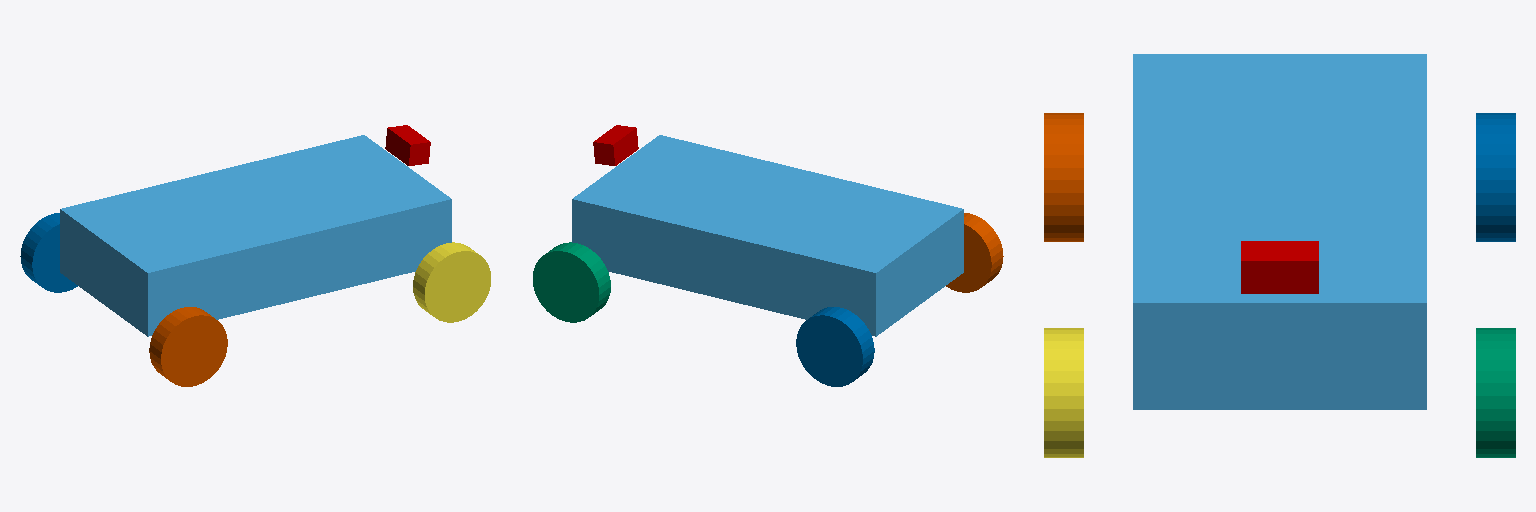
The robot description file, URDF, robot "automodelcar":
<?xml version="1.0"?>
<robot name="automodelcar">

  <!-- ============================================== -->
  <!-- MATERIALES VISUALES (Para Rviz o vista normal) -->
  <!-- ============================================== -->
  <material name="yellow"><color rgba="0.0 0.3 0.8 1.0"/></material>
  <material name="gray"><color rgba="0.1 0.1 0.1 1.0"/></material>
  <material name="red"><color rgba="0.8 0.0 0.0 1.0"/></material>

  <!-- ============================================== -->
  <!-- FOOTPRINT (Centro en el suelo)                 -->
  <!-- ============================================== -->
  <link name="base_footprint"/>
  
  <joint name="base_joint" type="fixed">
    <parent link="base_footprint"/>
    <child link="base_link"/>
    <!-- Elevamos el centro del chasis a la altura del eje de las llantas -->
    <origin xyz="0 0 0.033" rpy="0 0 0"/> 
  </joint>

  <!-- ============================================== -->
  <!-- CHASIS (Caja Azul)                             -->
  <!-- ============================================== -->
  <link name="base_link">
    <visual>
      <!-- Subimos la caja un poco para que no choque con el piso -->
      <origin xyz="0 0 0.03" rpy="0 0 0"/>
      <geometry><box size="0.30 0.15 0.06"/></geometry>
      <material name="blue"/>
    </visual>
    <collision>
      <origin xyz="0 0 0.03" rpy="0 0 0"/>
      <geometry><box size="0.30 0.15 0.06"/></geometry>
    </collision>
    <inertial>
      <!-- Inercias estables para una caja de 2kg -->
      <mass value="2.0"/>
      <inertia ixx="0.01" ixy="0.0" ixz="0.0" iyy="0.01" iyz="0.0" izz="0.01"/>
    </inertial>
  </link>
  <gazebo reference="base_link">
    <material>Gazebo/Blue</material>
  </gazebo>

  <!-- ============================================== -->
  <!-- RUEDAS (Cilindros Negros)                      -->
  <!-- ============================================== -->
  
  <!-- RUEDA 1: Delantera Izquierda -->
  <link name="wheel_1_link">
    <visual>
      <origin xyz="0 0 0" rpy="1.5708 0 0"/>
      <geometry><cylinder radius="0.033" length="0.02"/></geometry>
      <material name="black"/>
    </visual>
    <collision>
      <origin xyz="0 0 0" rpy="1.5708 0 0"/>
      <geometry><cylinder radius="0.033" length="0.02"/></geometry>
    </collision>
    <inertial>
      <mass value="0.2"/>
      <inertia ixx="0.001" ixy="0.0" ixz="0.0" iyy="0.001" iyz="0.0" izz="0.001"/>
    </inertial>
  </link>
  <joint name="wheel_1_joint" type="continuous">
    <parent link="base_link"/>
    <child link="wheel_1_link"/>
    <origin xyz="0.13 0.11 0" rpy="0 0 0"/> 
    <axis xyz="0 1 0"/> 
  </joint>
  <gazebo reference="wheel_1_link">
    <material>Gazebo/Black</material>
    <mu1>0.8</mu1>
    <mu2>0.1</mu2>
  </gazebo>

  <!-- RUEDA 2: Delantera Derecha -->
  <link name="wheel_2_link">
    <visual>
      <origin xyz="0 0 0" rpy="1.5708 0 0"/>
      <geometry><cylinder radius="0.033" length="0.02"/></geometry>
      <material name="black"/>
    </visual>
    <collision>
      <origin xyz="0 0 0" rpy="1.5708 0 0"/>
      <geometry><cylinder radius="0.033" length="0.02"/></geometry>
    </collision>
    <inertial>
      <mass value="0.2"/>
      <inertia ixx="0.001" ixy="0.0" ixz="0.0" iyy="0.001" iyz="0.0" izz="0.001"/>
    </inertial>
  </link>
  <joint name="wheel_2_joint" type="continuous">
    <parent link="base_link"/>
    <child link="wheel_2_link"/>
    <origin xyz="0.13 -0.11 0" rpy="0 0 0"/> 
    <axis xyz="0 1 0"/>
  </joint>
  <gazebo reference="wheel_2_link">
    <material>Gazebo/Black</material>
    <mu1>0.8</mu1>
    <mu2>0.1</mu2>
  </gazebo>

  <!-- RUEDA 3: Trasera Izquierda -->
  <link name="wheel_3_link">
    <visual>
      <origin xyz="0 0 0" rpy="1.5708 0 0"/>
      <geometry><cylinder radius="0.033" length="0.02"/></geometry>
      <material name="black"/>
    </visual>
    <collision>
      <origin xyz="0 0 0" rpy="1.5708 0 0"/>
      <geometry><cylinder radius="0.033" length="0.02"/></geometry>
    </collision>
    <inertial>
      <mass value="0.2"/>
      <inertia ixx="0.001" ixy="0.0" ixz="0.0" iyy="0.001" iyz="0.0" izz="0.001"/>
    </inertial>
  </link>
  <joint name="wheel_3_joint" type="continuous">
    <parent link="base_link"/>
    <child link="wheel_3_link"/>
    <origin xyz="-0.13 0.11 0" rpy="0 0 0"/> 
    <axis xyz="0 1 0"/>
  </joint>
  <gazebo reference="wheel_3_link">
    <material>Gazebo/Black</material>
    <mu1>0.8</mu1>
    <mu2>0.1</mu2>
  </gazebo>

  <!-- RUEDA 4: Trasera Derecha -->
  <link name="wheel_4_link">
    <visual>
      <origin xyz="0 0 0" rpy="1.5708 0 0"/>
      <geometry><cylinder radius="0.033" length="0.02"/></geometry>
      <material name="black"/>
    </visual>
    <collision>
      <origin xyz="0 0 0" rpy="1.5708 0 0"/>
      <geometry><cylinder radius="0.033" length="0.02"/></geometry>
    </collision>
    <inertial>
      <mass value="0.2"/>
      <inertia ixx="0.001" ixy="0.0" ixz="0.0" iyy="0.001" iyz="0.0" izz="0.001"/>
    </inertial>
  </link>
  <joint name="wheel_4_joint" type="continuous">
    <parent link="base_link"/>
    <child link="wheel_4_link"/>
    <origin xyz="-0.13 -0.11 0" rpy="0 0 0"/> 
    <axis xyz="0 1 0"/>
  </joint>
  <gazebo reference="wheel_4_link">
    <material>Gazebo/Black</material>
    <mu1>0.8</mu1>
    <mu2>0.1</mu2>
  </gazebo>

  <!-- ============================================== -->
  <!-- CÁMARA (Cajita Roja)                           -->
  <!-- ============================================== -->
  <link name="camera_optical_link">
    <visual>
      <origin xyz="0 0 0" rpy="0 0 0"/>
      <geometry><box size="0.02 0.04 0.02"/></geometry>
      <material name="red"/>
    </visual>
    <inertial>
      <mass value="0.05"/>
      <inertia ixx="0.0001" ixy="0.0" ixz="0.0" iyy="0.0001" iyz="0.0" izz="0.0001"/>
    </inertial>
  </link>
  <joint name="camera_optical_joint" type="fixed">
    <parent link="base_link"/>
    <child link="camera_optical_link"/>
    <origin xyz="0.15 0.0 0.08" rpy="0 0.1 0"/> 
  </joint>
  <gazebo reference="camera_optical_link">
    <material>Gazebo/Red</material>
  </gazebo>

  <!-- ============================================== -->
  <!-- PLUGINS DE GAZEBO SIM                          -->
  <!-- ============================================== -->
  
  <gazebo reference="camera_optical_link">
    <sensor name="camara_frontal" type="camera">
      <camera>
        <horizontal_fov>2.0944</horizontal_fov>
        <image>
          <width>640</width>
          <height>480</height>
        </image>
        <clip>
          <near>0.05</near>
          <far>50.0</far>
        </clip>
      </camera>
      <always_on>1</always_on>
      <update_rate>30</update_rate>
      <visualize>true</visualize>
      <topic>/camara/imagen_cruda</topic>
    </sensor>
  </gazebo>

  <gazebo>
    <plugin filename="gz-sim-diff-drive-system" name="gz::sim::systems::DiffDrive">
      <left_joint>wheel_1_joint</left_joint>
      <left_joint>wheel_3_joint</left_joint>
      <right_joint>wheel_2_joint</right_joint>
      <right_joint>wheel_4_joint</right_joint>
      <wheel_separation>0.22</wheel_separation>
      <wheel_radius>0.033</wheel_radius>
      <odom_publish_frequency>30</odom_publish_frequency>
      <topic>/cmd_vel</topic>
    </plugin>
  </gazebo>

</robot>

--- Render facts (derived) ---
3 views of the same robot in one strip: view 1: azimuth 30°, elevation 25°; view 2: azimuth 150°, elevation 25°; view 3: azimuth 270°, elevation 25° (orthographic).
Robot: automodelcar — 7 links, 6 joints (4 continuous, 2 fixed); root link base_footprint; default pose: all joints at 0.
Links seen in each view (by area): view 1: base_link, wheel_2_link, wheel_4_link, wheel_3_link, camera_optical_link; view 2: base_link, wheel_1_link, wheel_3_link, wheel_4_link, camera_optical_link; view 3: base_link, wheel_1_link, wheel_2_link, wheel_3_link, wheel_4_link, camera_optical_link.
Link boxes in pixels (x1,y1,x2,y2): base_link: [60, 135, 451, 336]; wheel_2_link: [413, 242, 490, 322]; wheel_4_link: [149, 307, 227, 386]; wheel_3_link: [20, 213, 77, 292]; camera_optical_link: [385, 125, 430, 165]; base_link: [572, 135, 963, 336]; wheel_1_link: [533, 242, 610, 322]; wheel_3_link: [796, 307, 874, 386]; wheel_4_link: [946, 213, 1003, 292]; camera_optical_link: [593, 125, 638, 165]; base_link: [1133, 54, 1426, 409]; wheel_1_link: [1476, 328, 1515, 457]; wheel_2_link: [1044, 328, 1083, 457]; wheel_3_link: [1476, 113, 1515, 241]; wheel_4_link: [1044, 113, 1083, 241]; camera_optical_link: [1241, 241, 1318, 293].
Bounding box of the posed robot: 0.326 × 0.24 × 0.1239 m (x, y, z).
Geometry: primitives only (box / cylinder / sphere), no mesh files.
